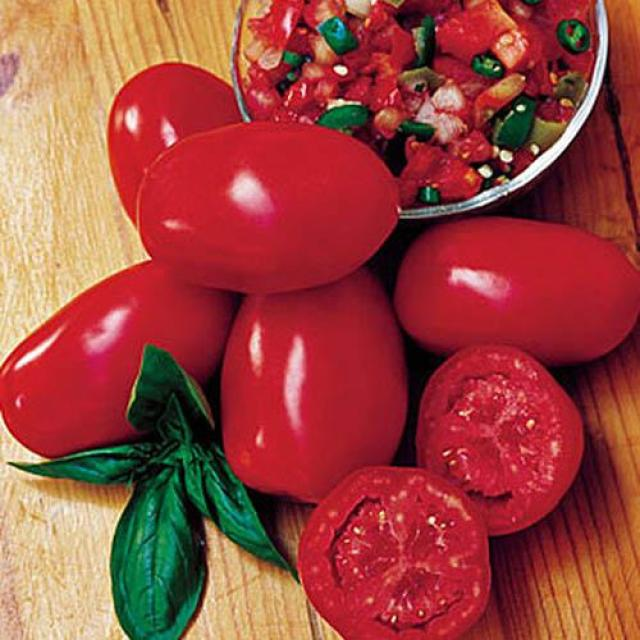Tomato: (229, 266, 413, 508), (3, 253, 219, 452), (143, 122, 396, 290), (394, 217, 636, 364), (296, 460, 494, 635), (416, 347, 574, 526), (106, 61, 242, 171)
